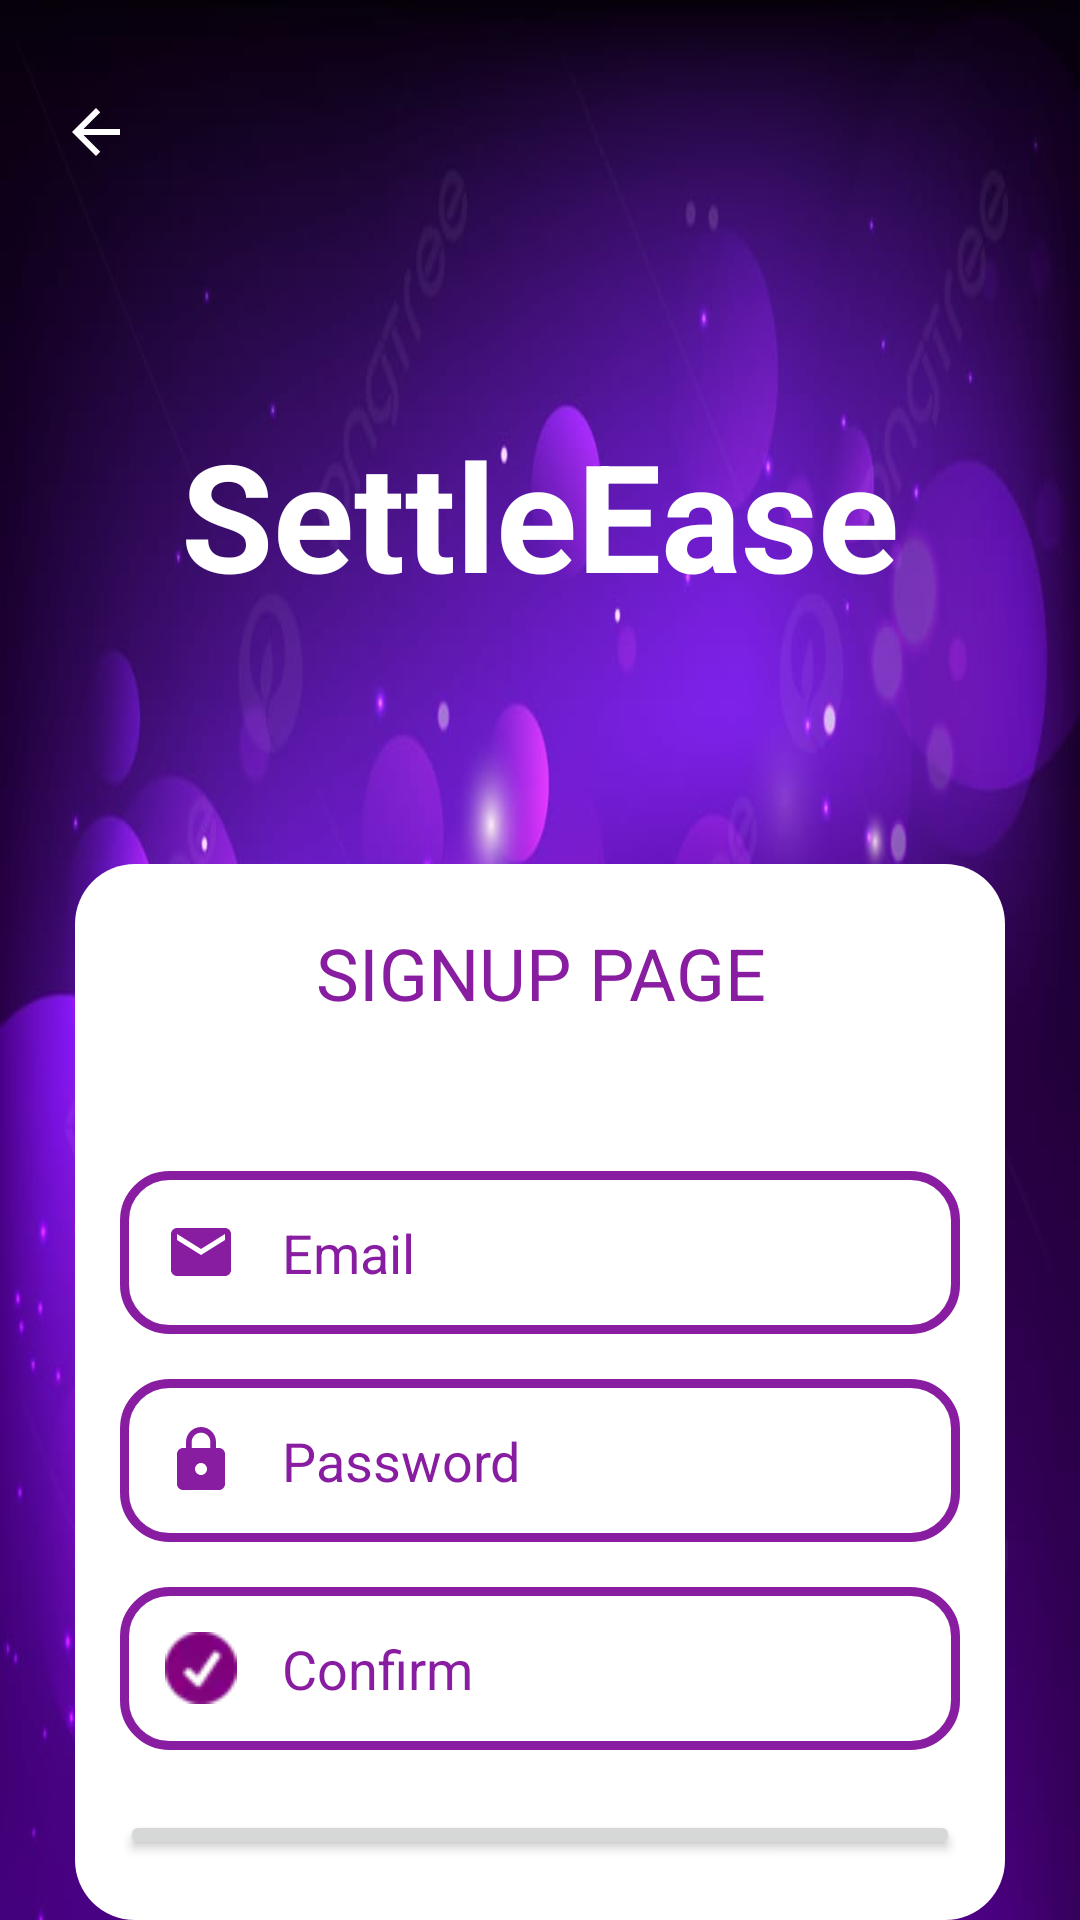

Icon bounding boxes for this 1080px×1920px phone screenshot, format (x1, y1, x2, y2):
arrow back: (72, 108, 120, 156)
